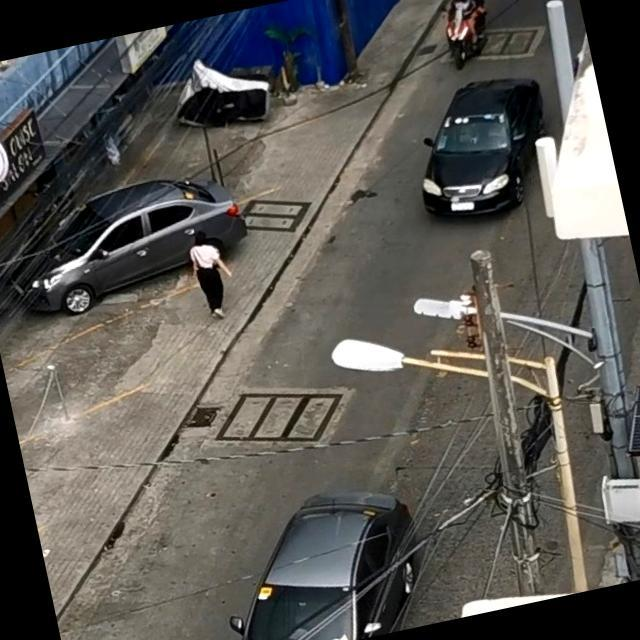Car: (167, 454, 452, 640), (0, 147, 269, 340), (380, 50, 585, 266)
